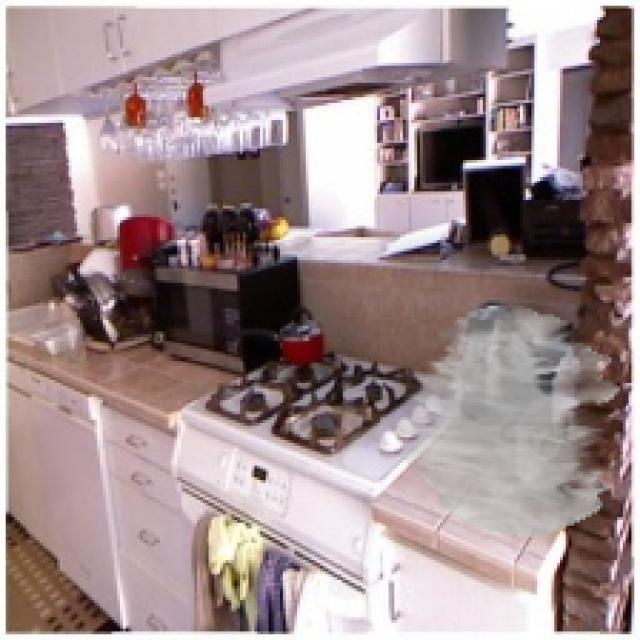Smoke: (397, 306, 620, 538)
